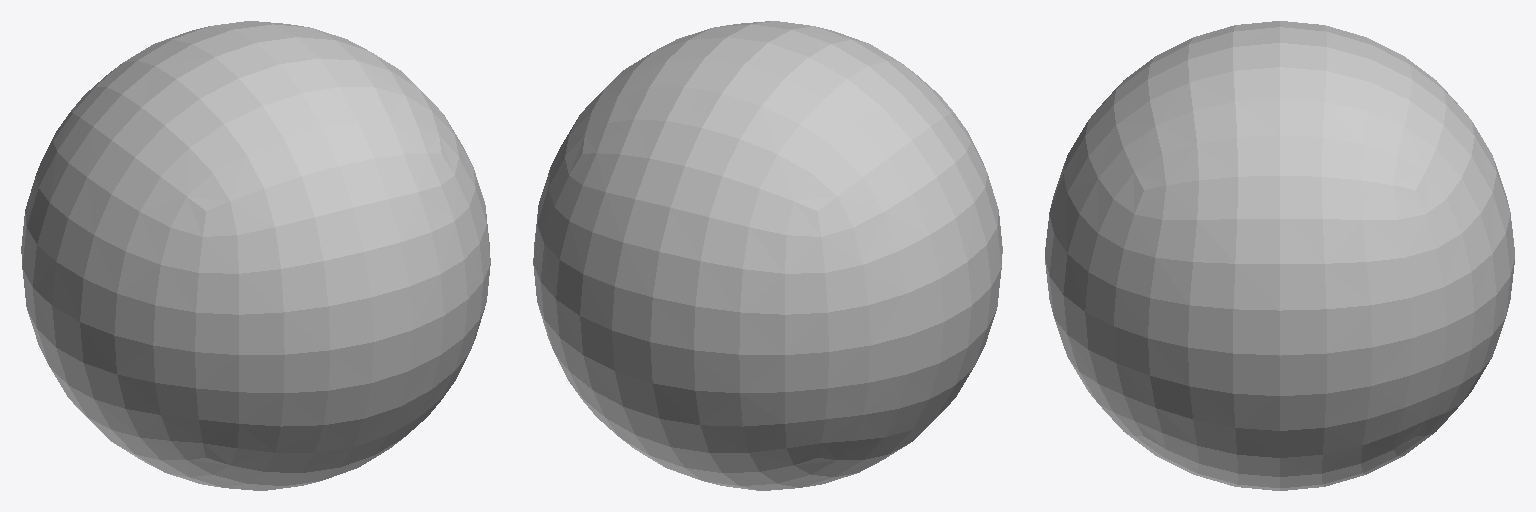
The model's file is starglobe.obj.
3 views of the same model, side by side, from view 1: azimuth 30°, elevation 25°; view 2: azimuth 150°, elevation 25°; view 3: azimuth 270°, elevation 25° (orthographic).
Parts seen in each view (by area): view 1: polyStarglobe; view 2: polyStarglobe; view 3: polyStarglobe.
Boxes of the visible parts, box(x1,y1,x2,y2) form: polyStarglobe: box(21, 21, 490, 490); polyStarglobe: box(533, 21, 1002, 490); polyStarglobe: box(1045, 21, 1514, 490).
Size of the model in its own units: 1191 by 1189 by 1191.